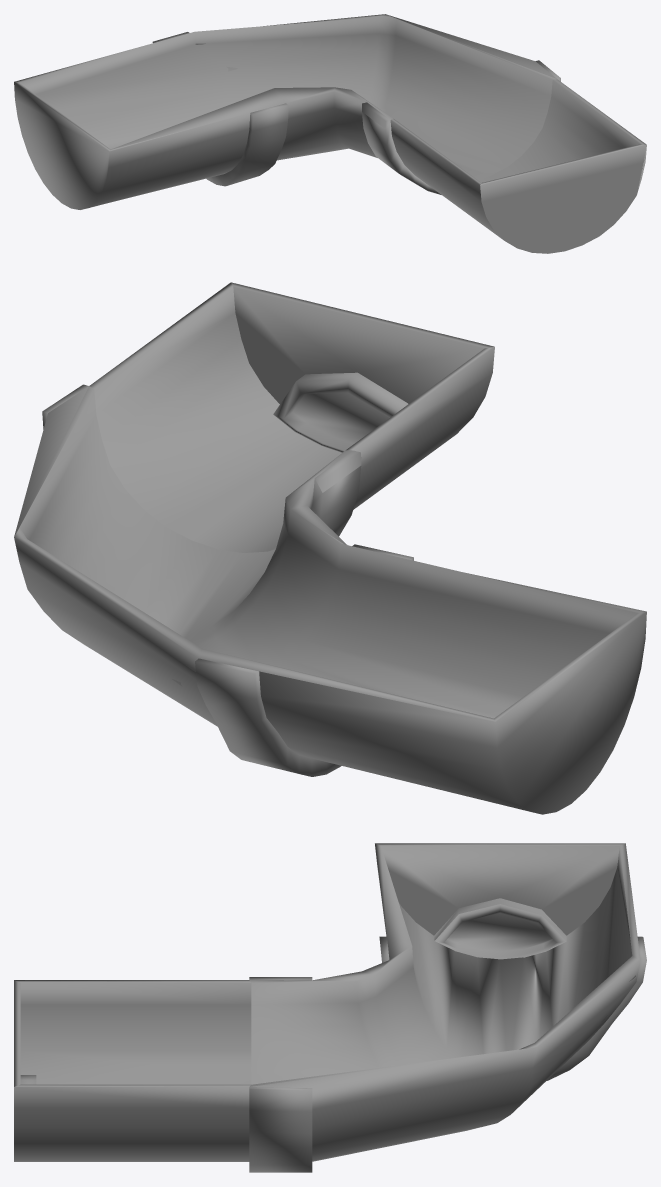
The model's file is Trough_Curve.fbx.
The picture shows the model from 3 angles, top to bottom: view 1: azimuth 30°, elevation 25°; view 2: azimuth 150°, elevation 25°; view 3: azimuth 270°, elevation 25°; orthographic projection. The views are drawn at different scales.
Parts seen in each view (by area): view 1: trough-curve; view 2: trough-curve; view 3: trough-curve.
Boxes of the visible parts, <box> form: trough-curve: <box>14,14,646,253</box>; trough-curve: <box>14,282,646,814</box>; trough-curve: <box>14,843,646,1172</box>.
Size of the model in its own units: 71.34 by 18.19 by 73.35.
1 material, 1 textured.
